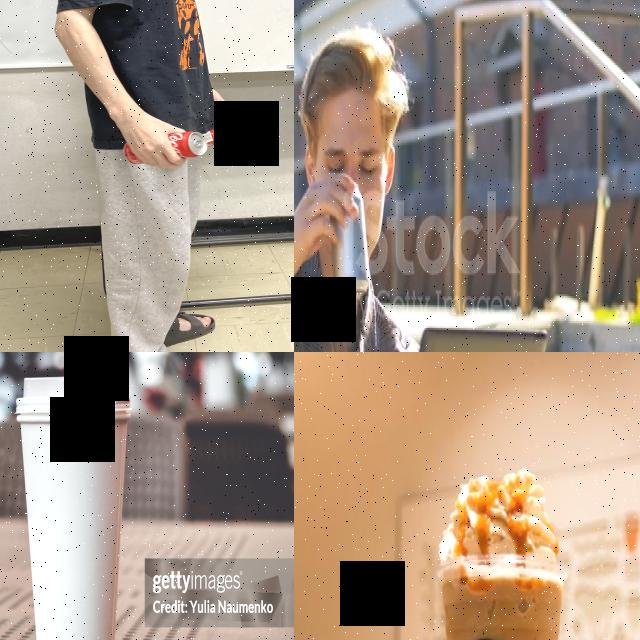can: (330, 180, 370, 300), (120, 130, 208, 166)
cup: (14, 375, 134, 640), (435, 557, 571, 640)
